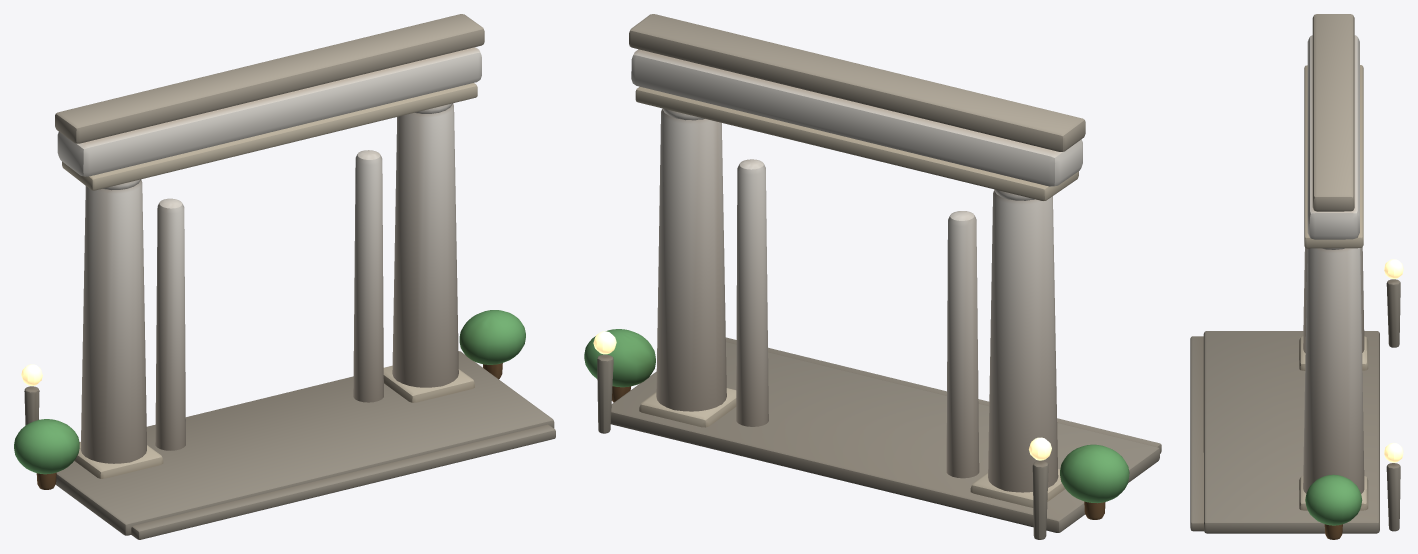
3 views of the same model, side by side, from view 1: azimuth 30°, elevation 25°; view 2: azimuth 150°, elevation 25°; view 3: azimuth 270°, elevation 25° (orthographic). The views are drawn at different scales.
Parts seen in each view (by area): view 1: gate_e4e52739; view 2: gate_e4e52739; view 3: gate_e4e52739.
Part boxes in pixels (<box>): gate_e4e52739: <box>14,14,555,539</box>; gate_e4e52739: <box>584,14,1161,539</box>; gate_e4e52739: <box>1190,14,1403,539</box>.
Bounding box in the file's own units: 6.4 × 4.41 × 2.54.
